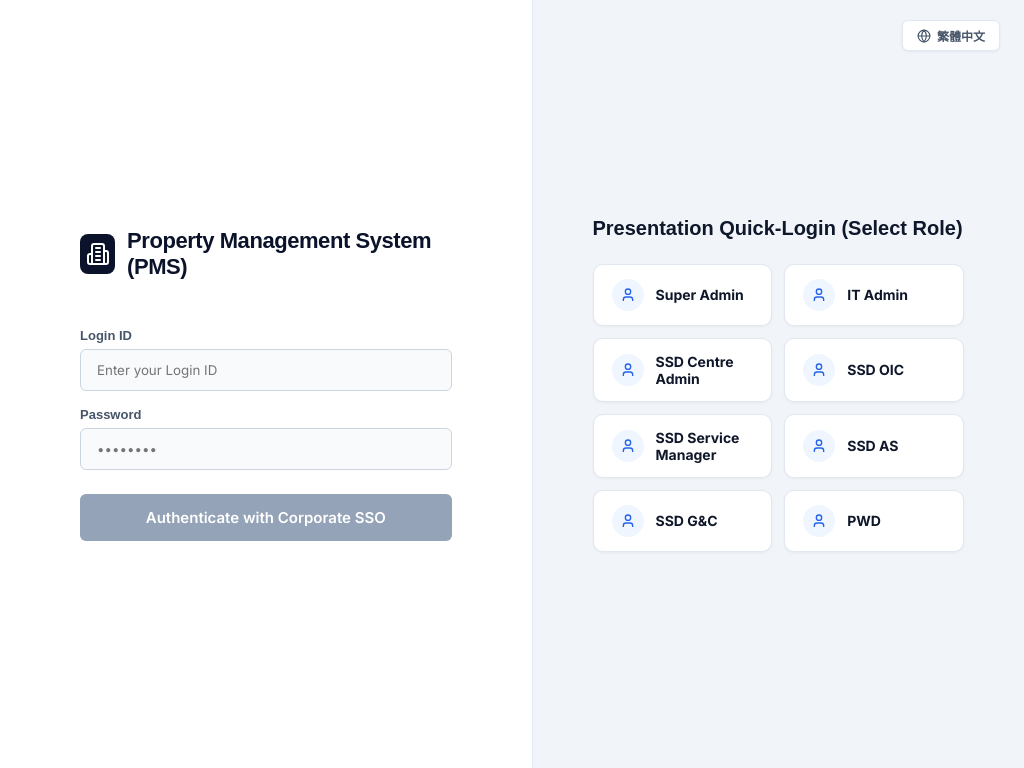
Scenario: AuthContext › sets role and permissions on login
What coordinates should you click on to do the following:
click the button "SSD OIC"
I would click on:
 (874, 370)
Its box is [784, 338, 964, 402].
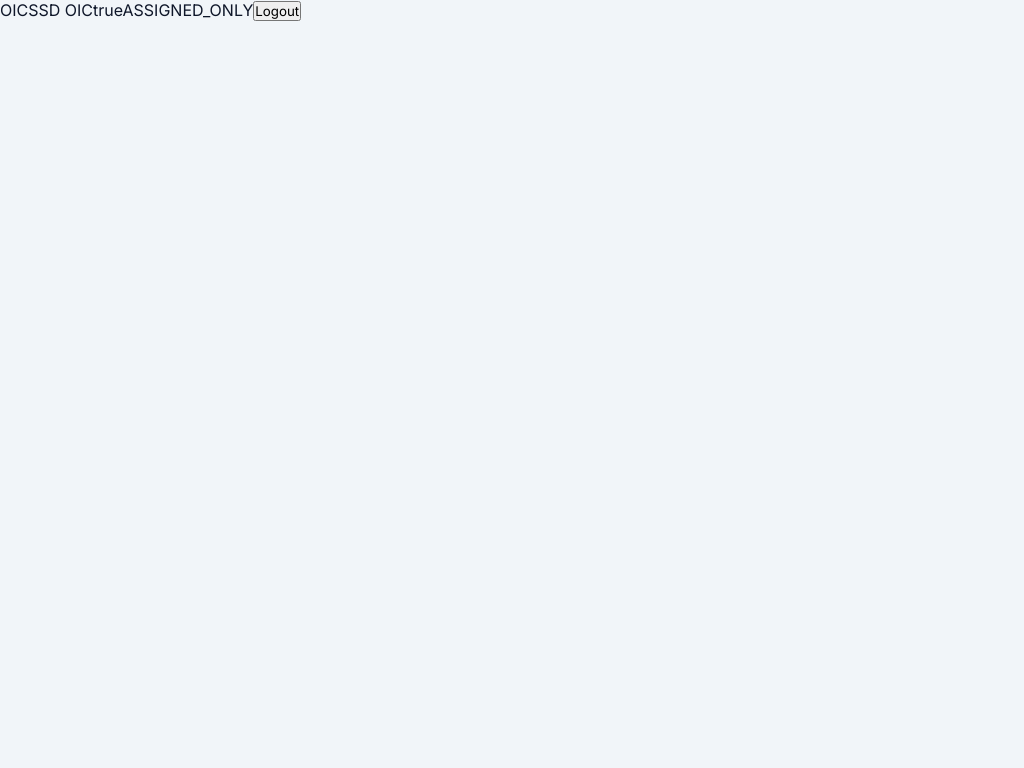
Result: the text with test id "role" reads "OIC" at [0, 0, 28, 20]
Result: the text with test id "canCreate" reads "true" at [93, 0, 122, 20]
Result: the text with test id "scope" reads "ASSIGNED_ONLY" at [122, 0, 253, 20]
